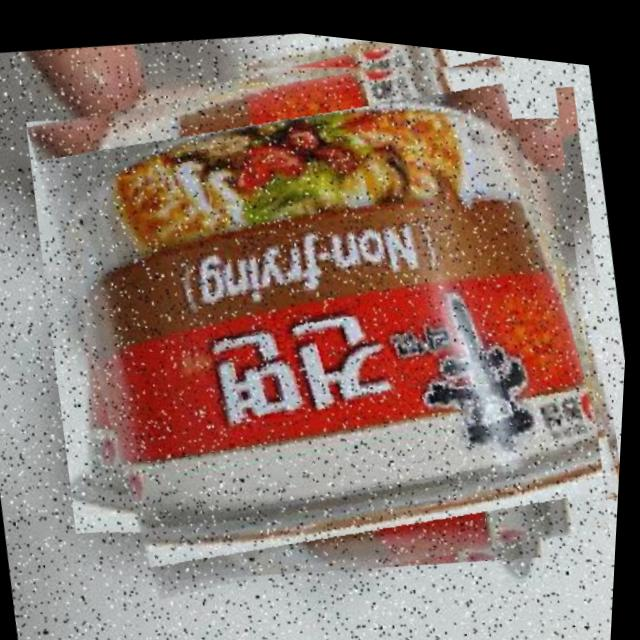Miscellaneous: (17, 3, 637, 626)
